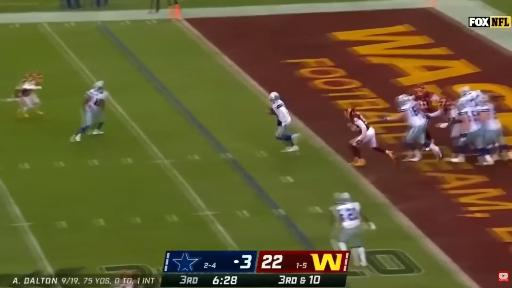Helmet: (461, 91, 481, 106), (396, 95, 412, 108), (440, 99, 454, 113), (477, 91, 490, 105), (455, 98, 468, 111), (334, 193, 350, 202), (439, 98, 453, 108), (414, 85, 426, 95), (32, 72, 42, 83), (345, 108, 355, 118), (269, 92, 279, 102), (459, 87, 470, 96), (94, 81, 103, 88)
Jersey: (335, 202, 362, 229), (399, 102, 426, 126), (458, 103, 481, 131), (478, 103, 501, 130), (416, 91, 439, 113), (272, 100, 291, 125), (86, 89, 108, 110), (350, 112, 370, 133), (463, 91, 481, 107), (19, 81, 35, 97)
Player: (384, 95, 442, 161), (332, 193, 375, 266), (451, 91, 493, 164), (346, 108, 395, 166), (477, 94, 511, 160), (71, 81, 108, 141), (269, 92, 299, 151), (15, 74, 42, 117), (438, 99, 461, 149), (414, 85, 439, 113)
